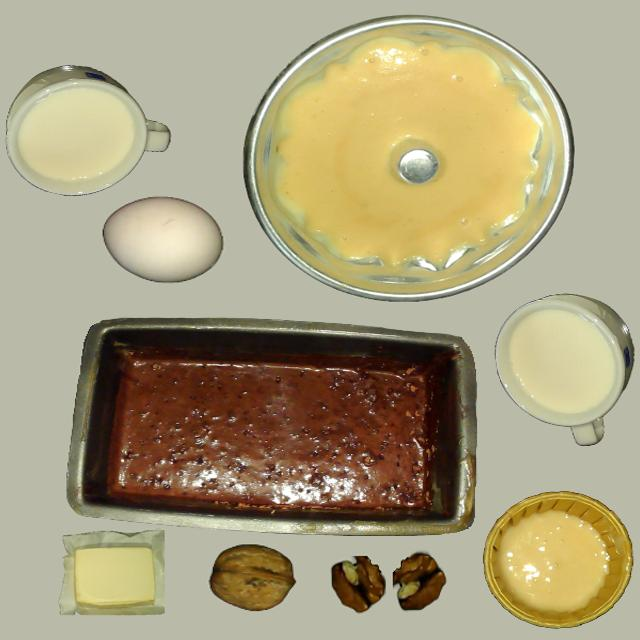Milk: (493, 300, 629, 465), (9, 54, 162, 197)
Walnut: (327, 550, 457, 621)
